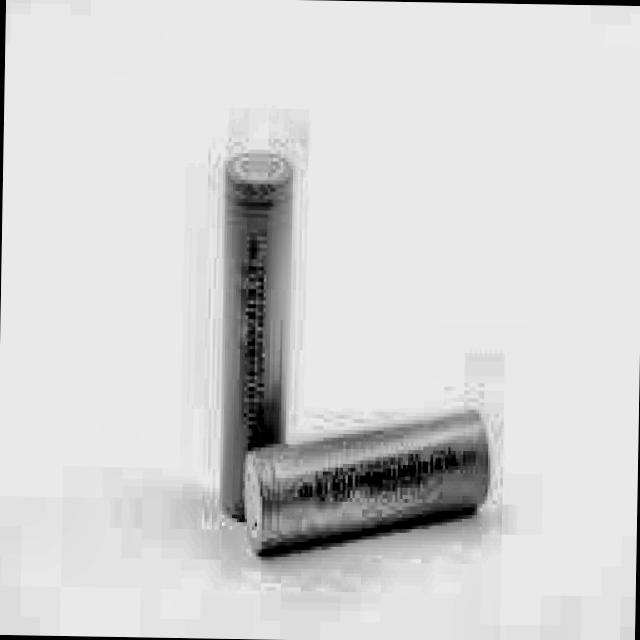Battery: (248, 409, 488, 553), (220, 153, 290, 512)
